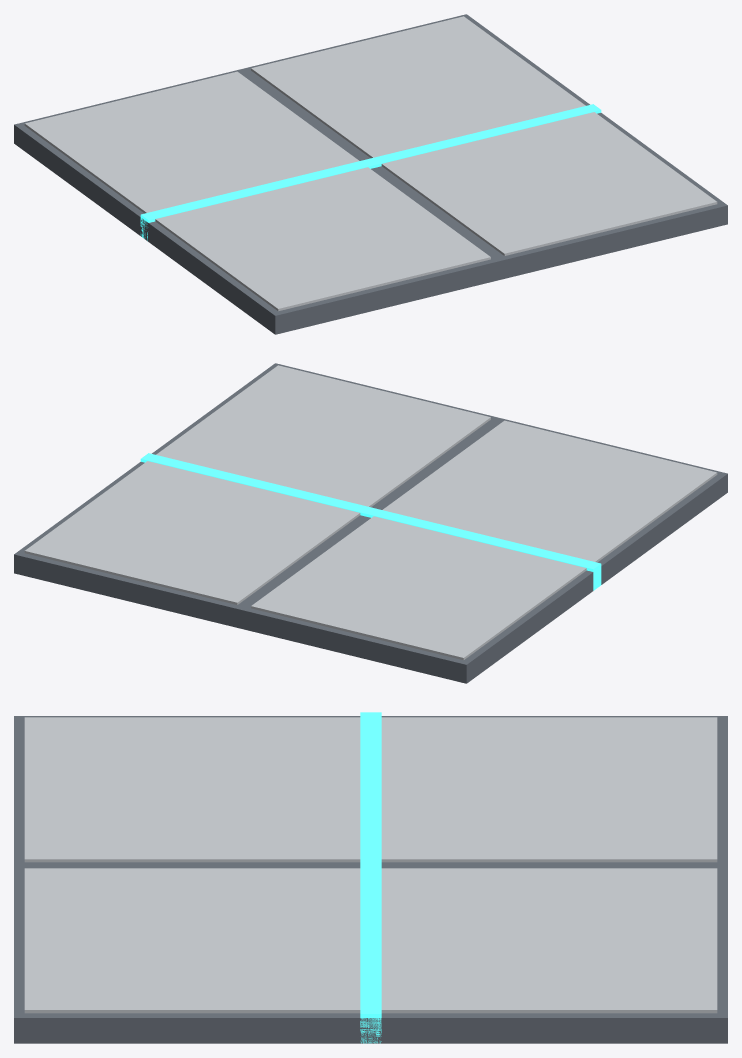
File: floor_panel.glb
3 views of the same model, one above another, from view 1: azimuth 30°, elevation 25°; view 2: azimuth 150°, elevation 25°; view 3: azimuth 270°, elevation 25° (orthographic). The views are drawn at different scales.
Visible parts, largest first — view 1: floor_panel; view 2: floor_panel; view 3: floor_panel.
Boxes of the visible parts, left/top/right/bottom form: floor_panel: left=14, top=14, right=727, bottom=334; floor_panel: left=14, top=363, right=727, bottom=683; floor_panel: left=14, top=712, right=727, bottom=1043.
Bounding box in the file's own units: 2 × 0.092 × 2.
